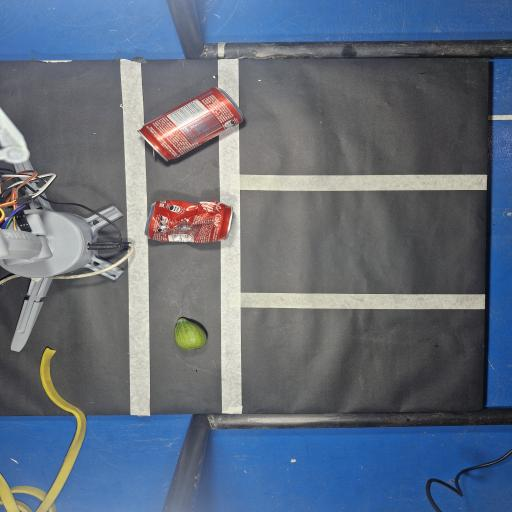higo: (174, 318, 207, 350)
lata: (138, 87, 243, 161)
lata_defectuoso: (145, 200, 232, 243)
